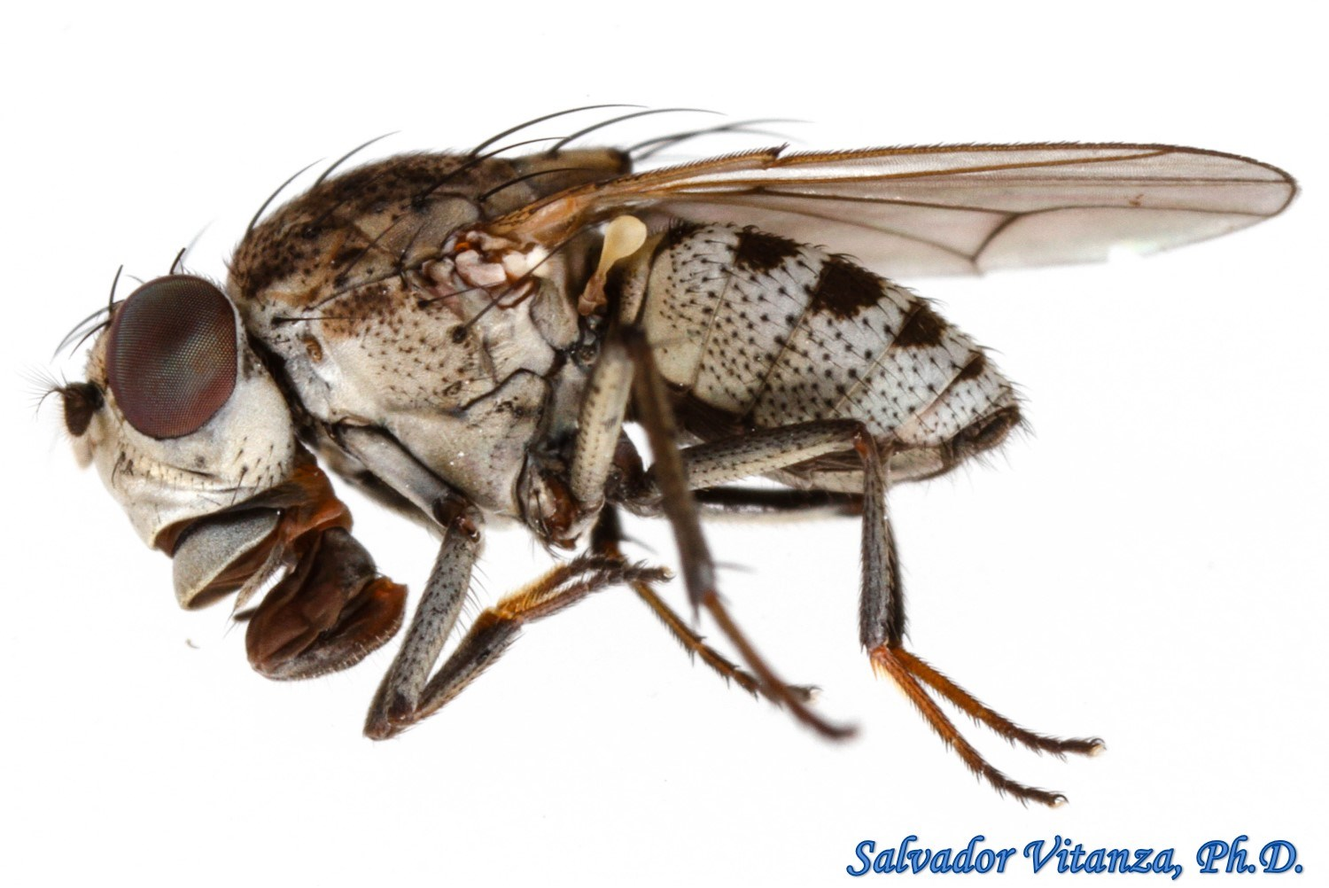Ephydridae: (32, 105, 1329, 809)
